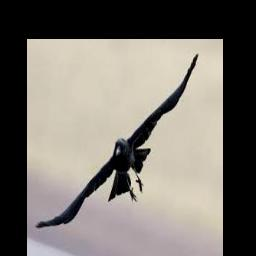Crow: (35, 52, 199, 229)
